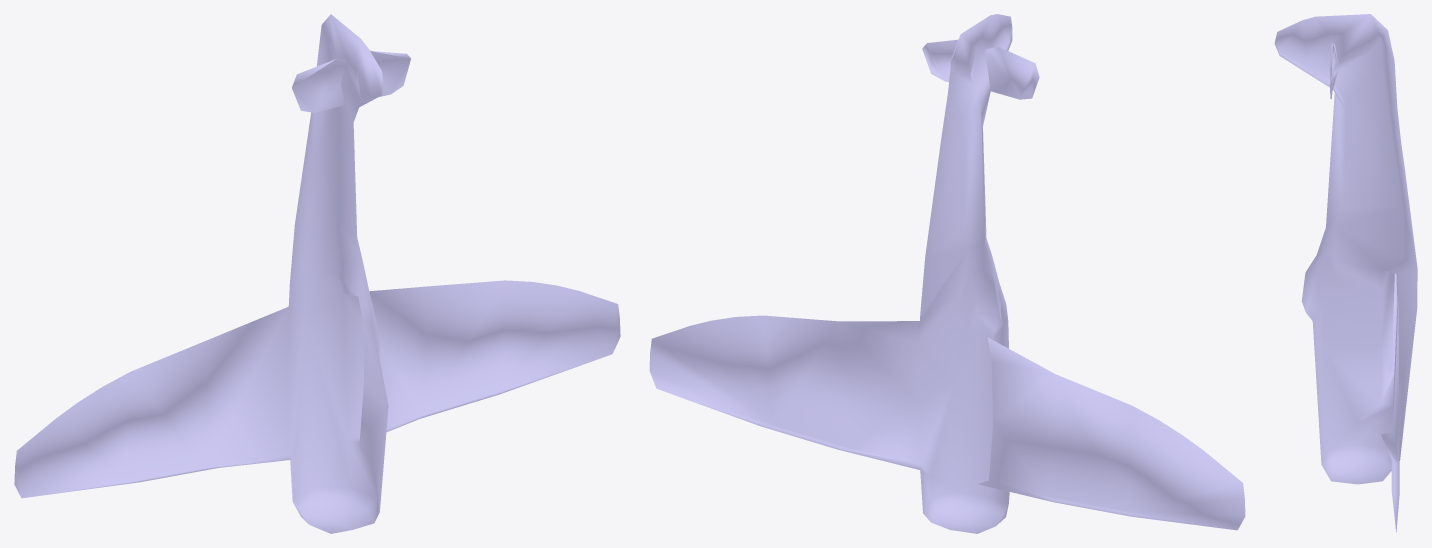
The model's file is ps2_save-icons_combatace.glb.
3 renders of one model, left to right at view 1: azimuth 30°, elevation 25°; view 2: azimuth 150°, elevation 25°; view 3: azimuth 270°, elevation 25°, orthographic. The views are drawn at different scales.
Parts seen in each view (by area): view 1: icon.ico; view 2: icon.ico; view 3: icon.ico.
Part boxes in pixels (<box>): icon.ico: <box>14,14,620,533</box>; icon.ico: <box>649,14,1245,533</box>; icon.ico: <box>1274,14,1417,532</box>.
Size of the model in its own units: 3.92 by 3.1 by 0.8733.
Materials: 1 (1 with a texture image).
